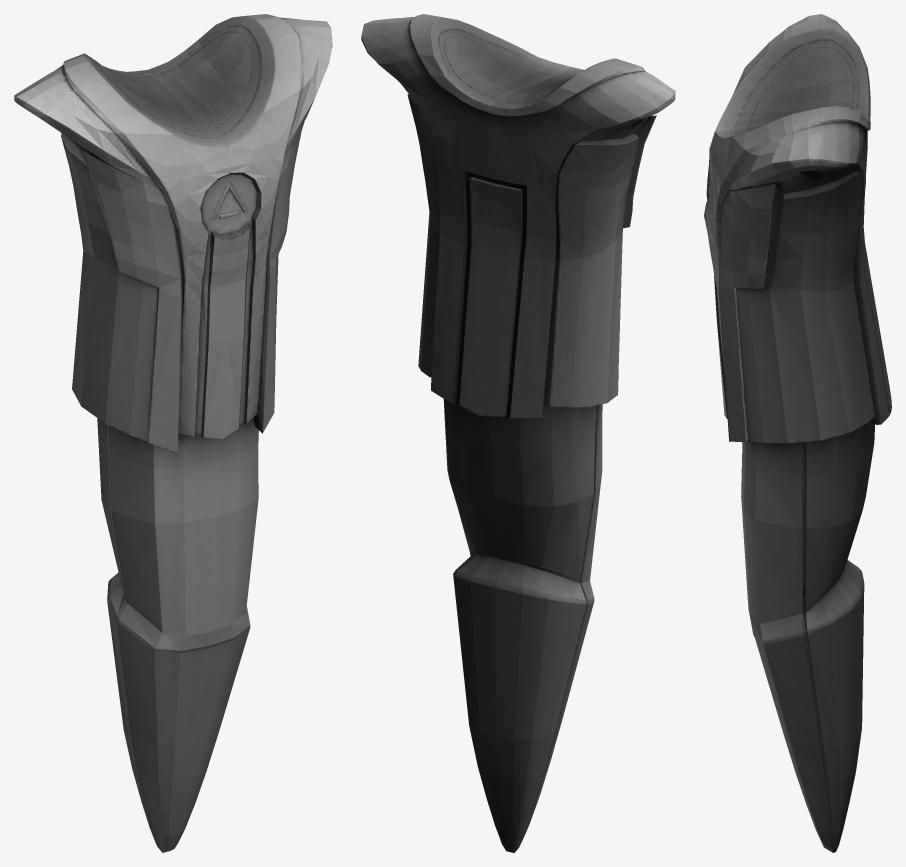
The model's file is body.obj.
3 views of the same model, side by side, from view 1: azimuth 30°, elevation 25°; view 2: azimuth 150°, elevation 25°; view 3: azimuth 270°, elevation 25° (orthographic). The views are drawn at different scales.
Parts seen in each view (by area): view 1: body.obj; view 2: body.obj; view 3: body.obj.
Part boxes in pixels (box(x1,y1,x2,y2)): body.obj: box(14, 14, 332, 852); body.obj: box(361, 14, 675, 852); body.obj: box(704, 14, 891, 852).
Bounding box in the file's own units: 0.5232 × 1.32 × 0.2863.
Materials: 1 (1 with a texture image).
